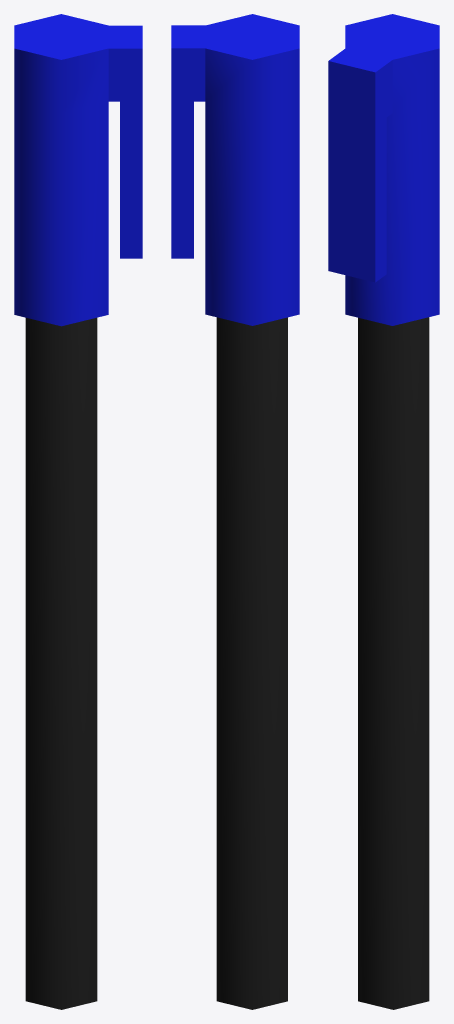
Rendered from boli_blau.FBX.
3 renders of one model, left to right at view 1: azimuth 30°, elevation 25°; view 2: azimuth 210°, elevation 25°; view 3: azimuth 270°, elevation 25°, orthographic.
Parts seen in each view (by area): view 1: Cylinder003; view 2: Cylinder003; view 3: Cylinder003.
Part boxes in pixels (x1,y1,x2,y2): Cylinder003: (14,14,142,1009); Cylinder003: (171,14,299,1009); Cylinder003: (328,14,439,1009).
Bounding box in the file's own units: 0.5008 × 3.82 × 0.4028.
